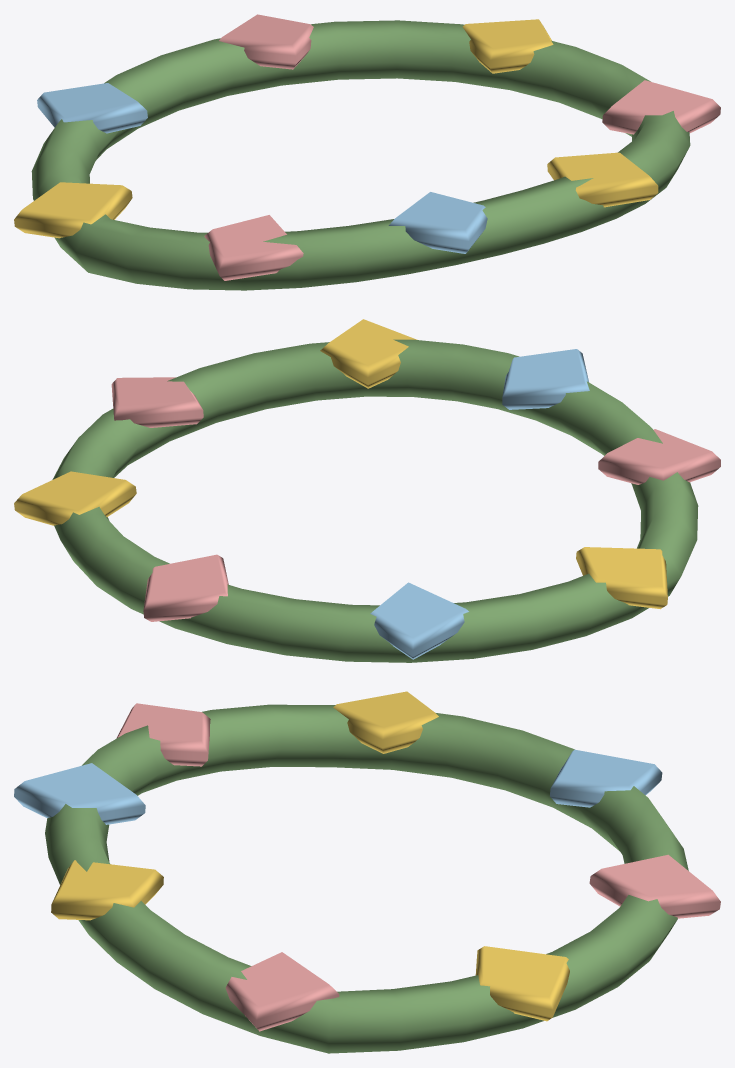
The model's file is bunny_day_crown.glb.
The picture shows the model from 3 angles, top to bottom: view 1: azimuth 30°, elevation 25°; view 2: azimuth 150°, elevation 25°; view 3: azimuth 270°, elevation 25°; orthographic projection. The views are drawn at different scales.
Visible parts, largest first — view 1: bunny_day_crown_Head; view 2: bunny_day_crown_Head; view 3: bunny_day_crown_Head.
Part boxes in pixels (box(x1,y1,x2,y2)): bunny_day_crown_Head: box(14, 14, 720, 290); bunny_day_crown_Head: box(14, 319, 720, 662); bunny_day_crown_Head: box(14, 691, 720, 1053).
Bounding box in the file's own units: 0.555 × 0.0754 × 0.4985.
